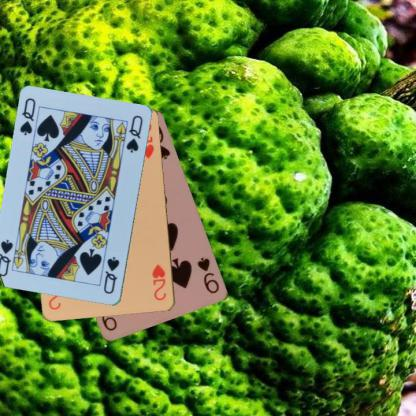2h: (150, 262, 167, 302)
9s: (194, 255, 221, 295)
Qs: (100, 254, 122, 296), (17, 95, 37, 137)
